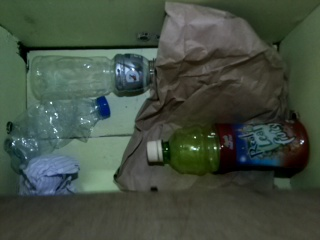bottle: (145, 120, 311, 172), (29, 54, 161, 97)
damaged-bottle: (11, 95, 110, 162)
paper: (111, 1, 291, 194), (19, 152, 80, 198)
